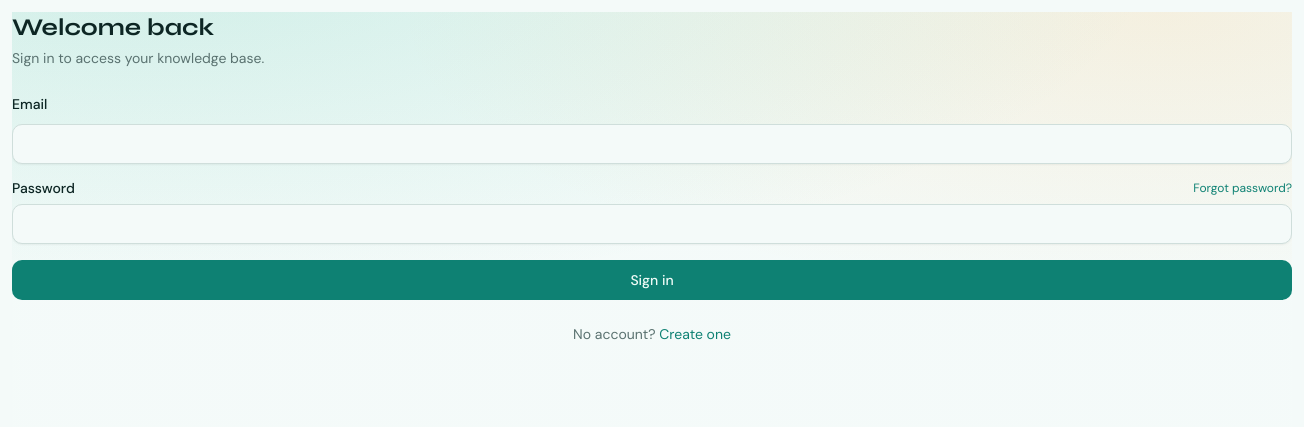
LoginPage › shows API error messages
Type "alice@example.com" into the field labelled "Email". click: (652, 144)
box: [12,124,1292,164]
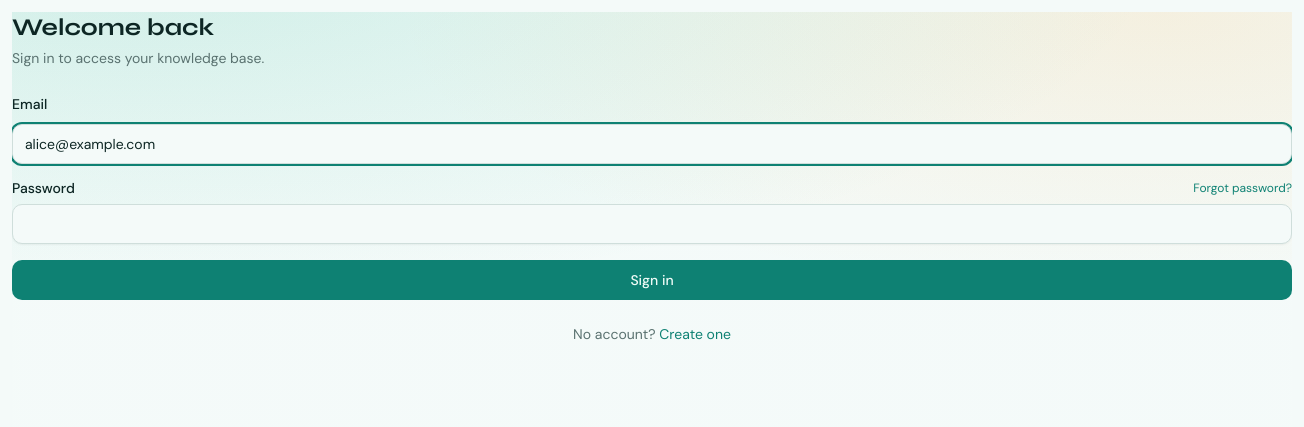
Type "wrong" into the password field labelled "Password". click: (652, 224)
box: [12,204,1292,244]
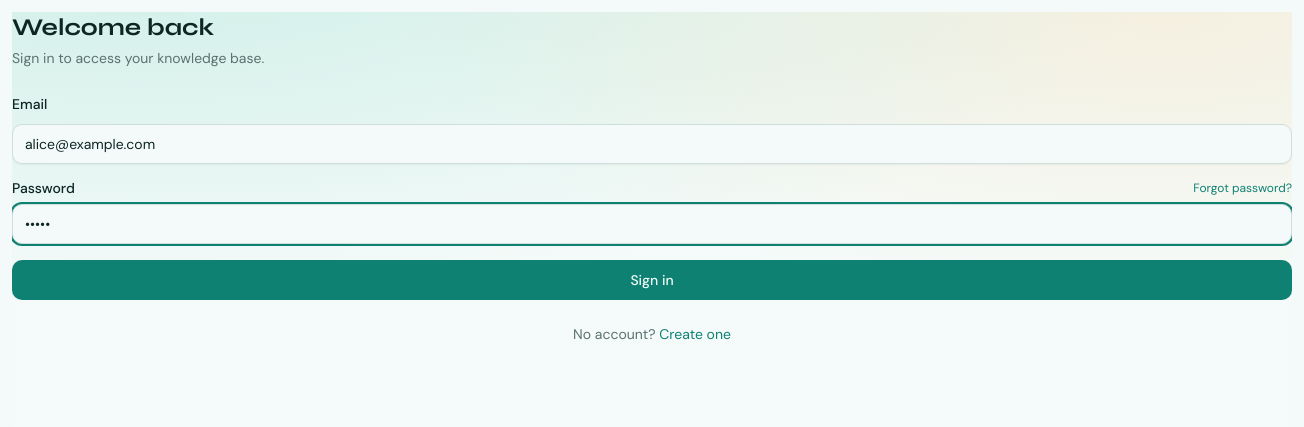
Click the button "Sign in". click: (652, 280)
box: [12,260,1292,300]
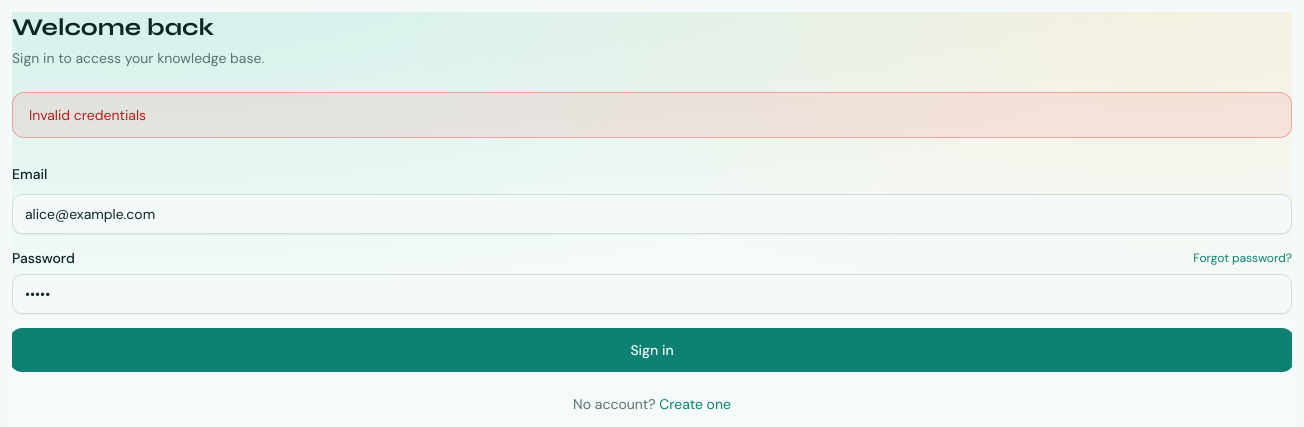
Expected: the text "Invalid credentials" is shown, [12,92,1292,138]
